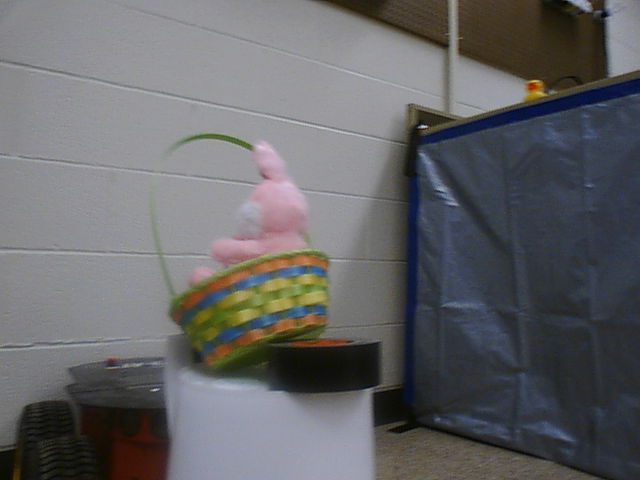bunny: (138, 124, 339, 365)
